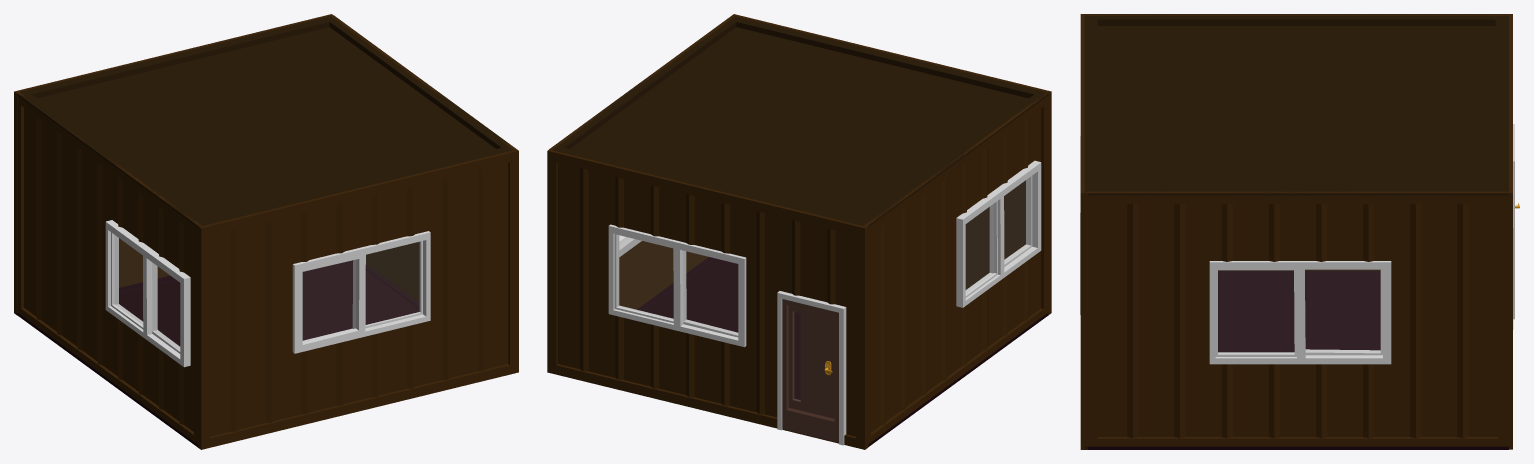
The model's file is 3D_6x6MedDoor.fbx.
3 renders of one model, left to right at view 1: azimuth 30°, elevation 25°; view 2: azimuth 150°, elevation 25°; view 3: azimuth 270°, elevation 25°, orthographic. The views are drawn at different scales.
Visible parts, largest first — view 1: Plane.002; view 2: Plane.002, Cube.037; view 3: Plane.002.
Boxes of the visible parts, bbox=[...] form: Plane.002: bbox=[14, 14, 518, 449]; Plane.002: bbox=[547, 14, 1051, 449]; Cube.037: bbox=[782, 299, 838, 442]; Plane.002: bbox=[1080, 14, 1514, 449].
Bounding box in the file's own units: 607 × 400 × 622.
